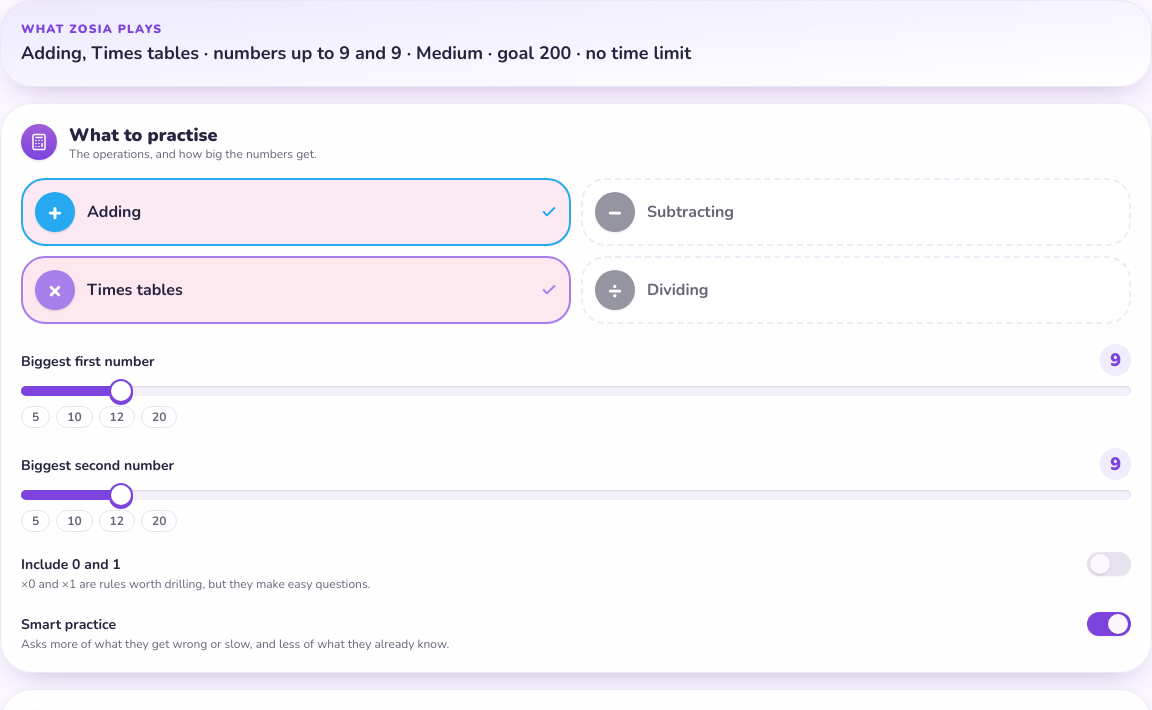
Test: SettingsForm › puts everything back on discard
Step 1. Click the button "÷ Dividing" → click(615, 290), box [581,256,1131,324]
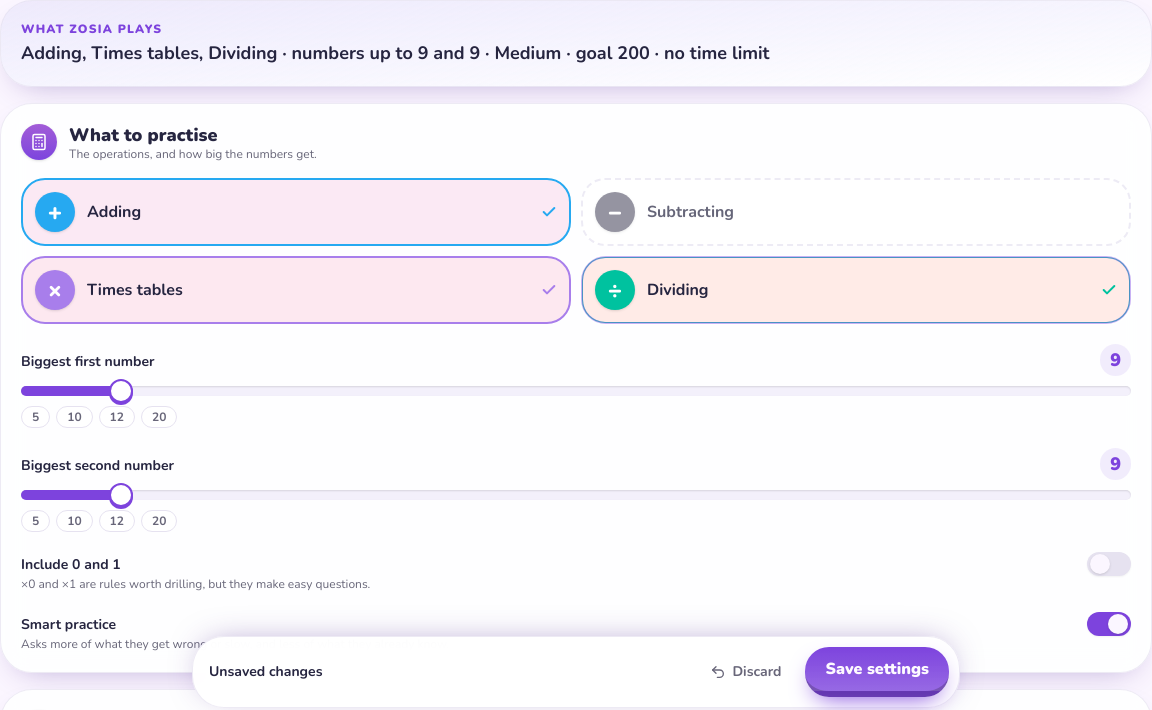
Step 2. Click the button "Discard" → click(746, 672), box [698,654,794,690]
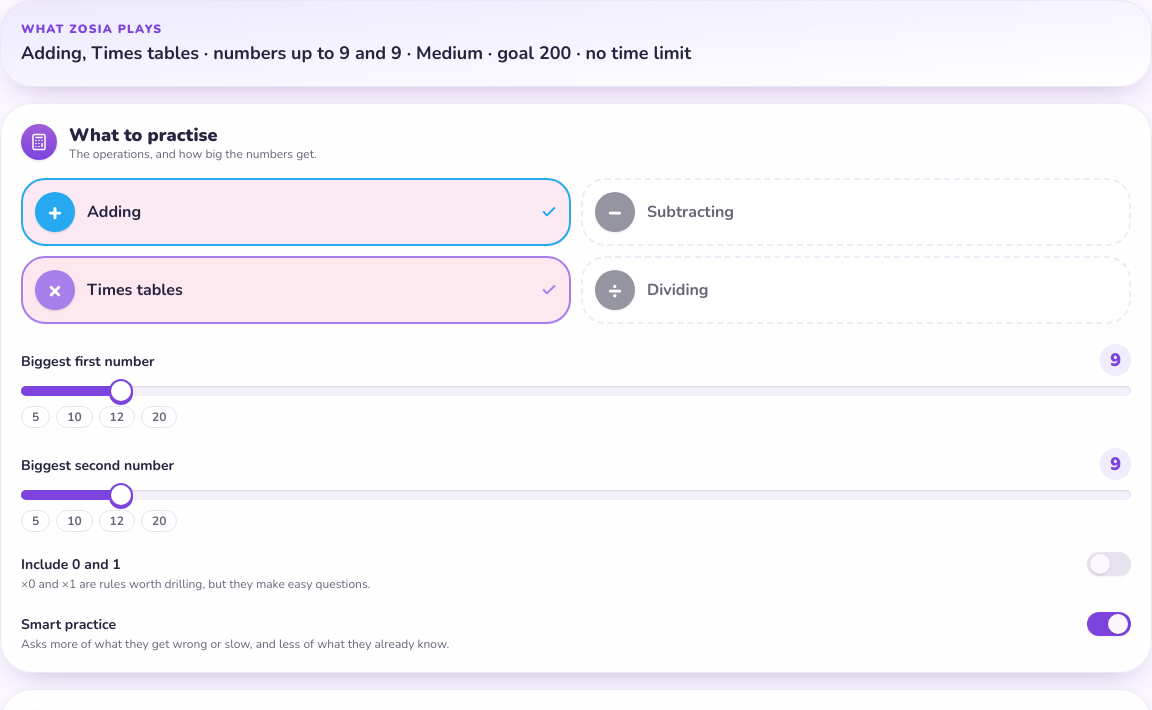
Check: the text "Unsaved changes" is gone
